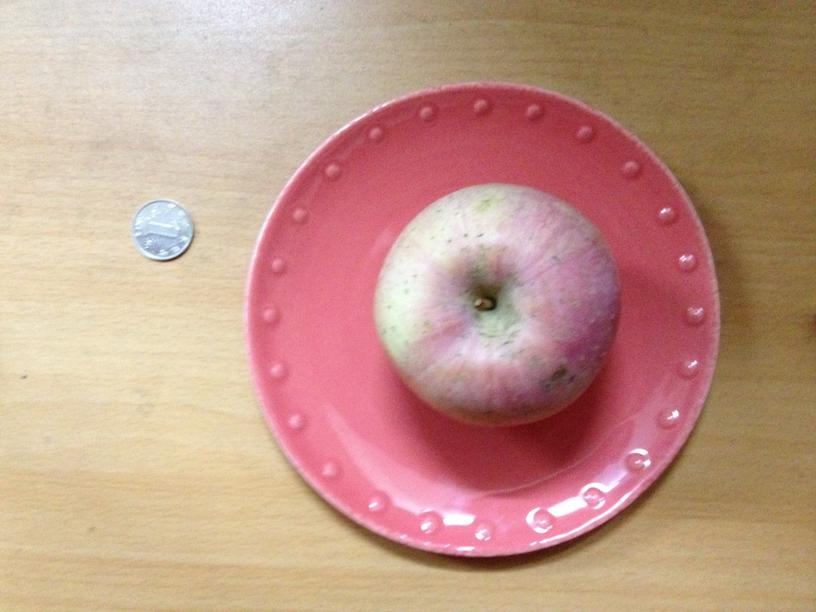apple: (371, 186, 623, 428)
coin: (130, 198, 194, 262)
